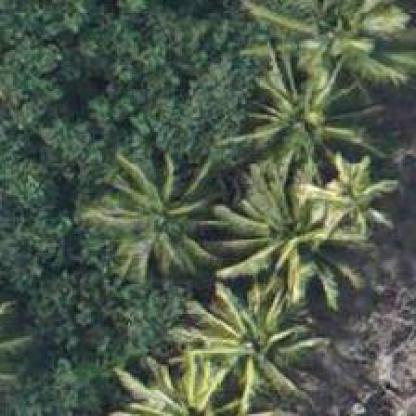coconut tree: (110, 0, 416, 414), (82, 149, 228, 286)
